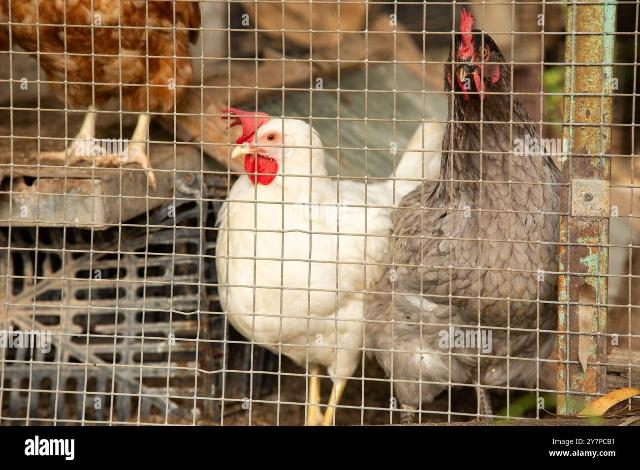Chicken: (370, 6, 561, 426), (217, 109, 441, 424), (0, 0, 200, 189)
